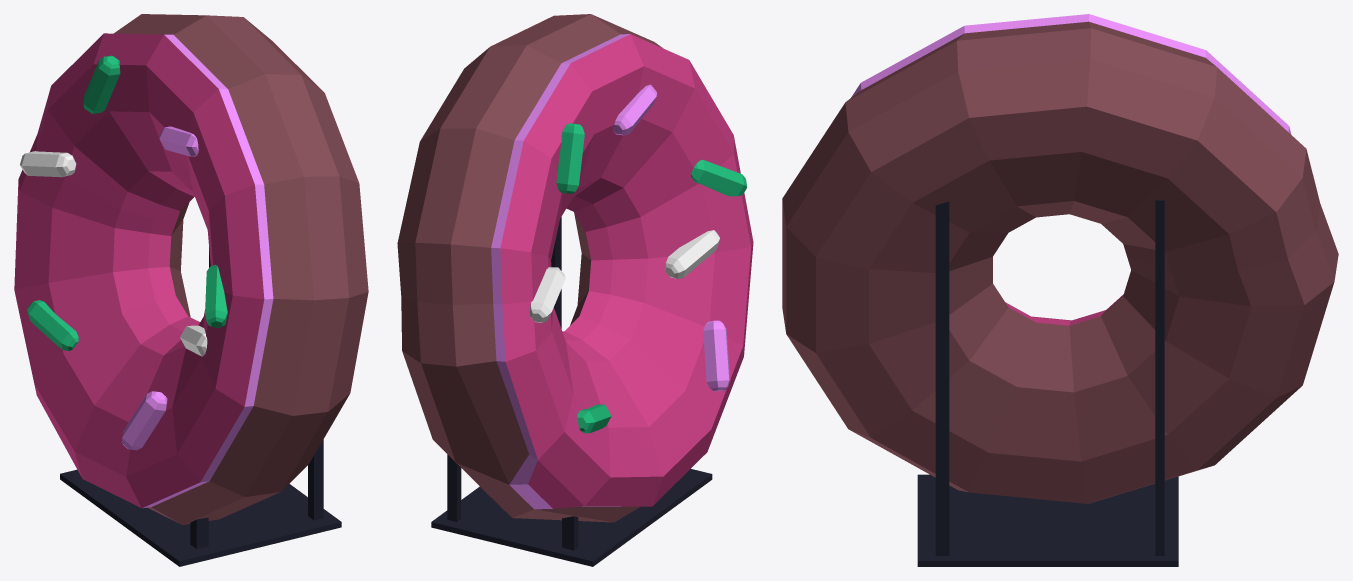
File: Building_JamHoleDonut.fbx
3 renders of one model, left to right at view 1: azimuth 30°, elevation 25°; view 2: azimuth 150°, elevation 25°; view 3: azimuth 270°, elevation 25°, orthographic. The views are drawn at different scales.
Visible parts, largest first — view 1: Jamhole, DonutStand; view 2: Jamhole, DonutStand; view 3: Jamhole, DonutStand.
Part boxes in pixels (x1,y1,x2,y2): Jamhole: [14, 14, 368, 524]; DonutStand: [60, 248, 341, 566]; Jamhole: [397, 14, 753, 522]; DonutStand: [431, 217, 712, 566]; Jamhole: [782, 14, 1338, 503]; DonutStand: [917, 200, 1178, 566].
Bounding box in the file's own units: 201 × 431 × 427.
